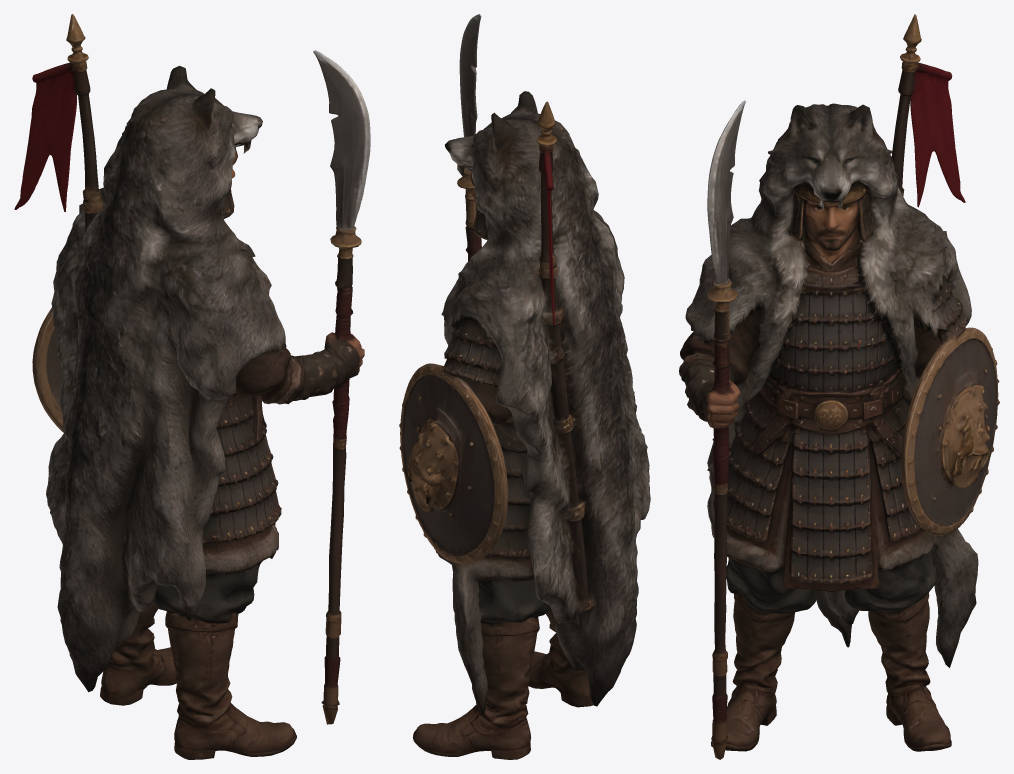
Rendered from vanguard-GreyjawPelt-tripo.glb.
3 views of the same model, side by side, from view 1: azimuth 30°, elevation 25°; view 2: azimuth 150°, elevation 25°; view 3: azimuth 270°, elevation 25° (orthographic). The views are drawn at different scales.
Visible parts, largest first — view 1: tripo_node_03f51800-d14f-4440-b530-41cfb13d7826; view 2: tripo_node_03f51800-d14f-4440-b530-41cfb13d7826; view 3: tripo_node_03f51800-d14f-4440-b530-41cfb13d7826.
Part boxes in pixels (box(x1,y1,x2,y2)): tripo_node_03f51800-d14f-4440-b530-41cfb13d7826: box(14, 14, 370, 759); tripo_node_03f51800-d14f-4440-b530-41cfb13d7826: box(399, 14, 650, 759); tripo_node_03f51800-d14f-4440-b530-41cfb13d7826: box(679, 14, 999, 759).
Bounding box in the file's own units: 0.3699 × 1 × 0.4256.
1 material, 1 textured.
